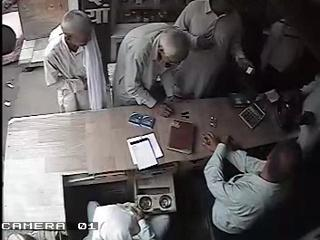Normal: (202, 131, 302, 238), (173, 0, 255, 100), (112, 23, 190, 118), (42, 10, 108, 112), (86, 202, 162, 240)
